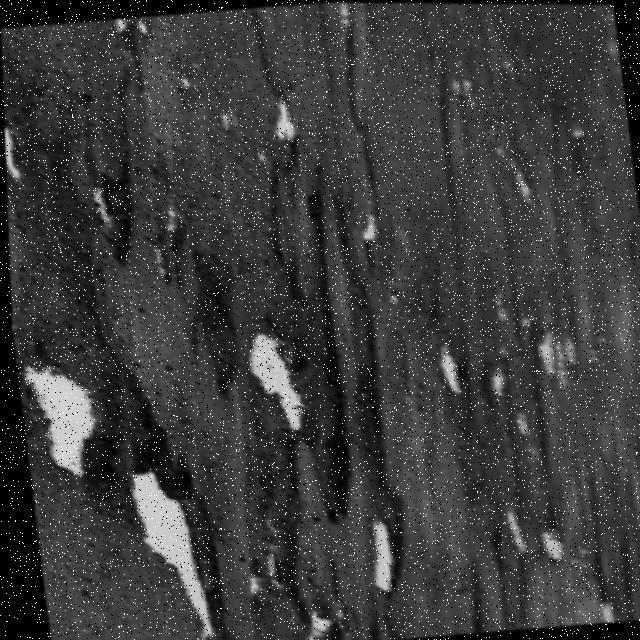pothole: (274, 190, 370, 512), (101, 451, 223, 640), (12, 343, 115, 478), (237, 318, 321, 446), (70, 164, 148, 258), (352, 508, 406, 601), (3, 109, 38, 186), (264, 92, 310, 146)
